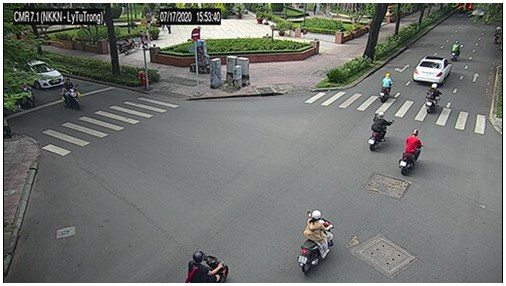di_bo: (312, 4, 317, 15)
xe_hoi: (412, 56, 452, 85), (27, 62, 64, 88)
xe_may: (296, 207, 335, 271), (186, 250, 230, 283), (399, 128, 423, 176), (369, 111, 395, 153), (61, 78, 82, 110), (426, 83, 443, 115), (379, 72, 394, 103), (118, 37, 140, 56), (19, 84, 35, 107), (451, 41, 463, 61)
